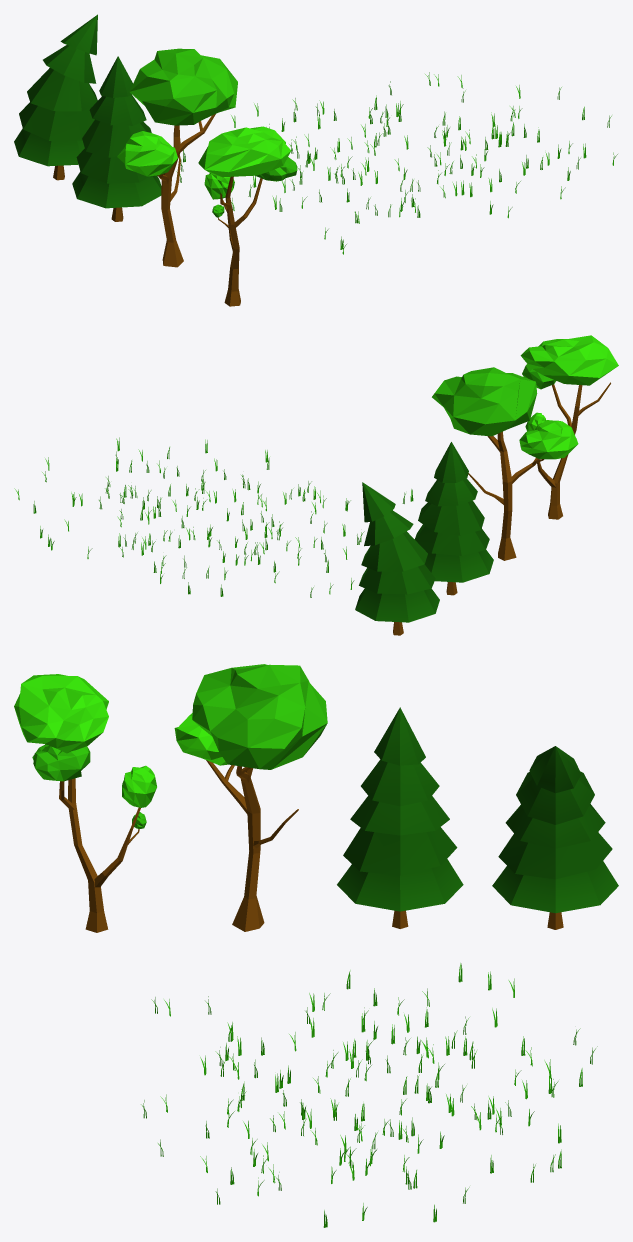
File: Trees_and_Grass.fbx
3 renders of one model, top to bottom at view 1: azimuth 30°, elevation 25°; view 2: azimuth 150°, elevation 25°; view 3: azimuth 270°, elevation 25°, orthographic. The views are drawn at different scales.
Parts seen in each view (by area): view 1: pCylinder19, pCylinder18, pCylinder17, Baum, Grass; view 2: pCylinder19, pCylinder18, pCylinder17, Baum, Grass; view 3: pCylinder19, pCylinder17, pCylinder18, Baum, Grass.
Boxes of the visible parts, bbox=[...] form: pCylinder19: bbox=[117, 48, 237, 267]; pCylinder18: bbox=[14, 14, 97, 180]; pCylinder17: bbox=[72, 56, 161, 221]; Baum: bbox=[198, 126, 297, 306]; Grass: bbox=[176, 72, 617, 254]; pCylinder19: bbox=[432, 367, 578, 560]; pCylinder18: bbox=[355, 482, 439, 635]; pCylinder17: bbox=[414, 442, 493, 595]; Baum: bbox=[520, 335, 618, 519]; Grass: bbox=[14, 437, 413, 597]; pCylinder19: bbox=[174, 664, 327, 931]; pCylinder17: bbox=[337, 707, 463, 928]; pCylinder18: bbox=[492, 746, 618, 929]; Baum: bbox=[14, 674, 156, 932]; Grass: bbox=[141, 963, 597, 1227].
Size of the model in its own units: 26.04 by 9.38 by 19.2.
